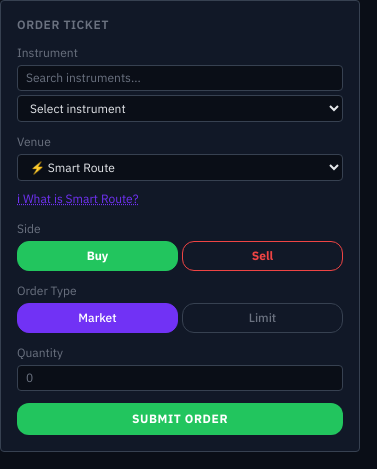
Test: OrderTicket › clears form after successful submission
Step 1. Select "BTC/USD - Bitcoin" in the dropdown labelled "Instrument" → (180, 108), box x1=17 y1=95 x2=343 y2=122
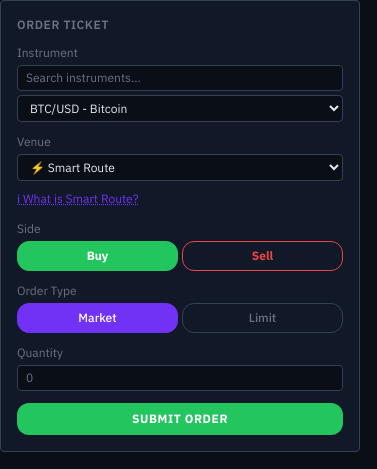
Step 2. Type "10" into the number field labelled "Quantity" → (180, 378), box x1=17 y1=365 x2=343 y2=391
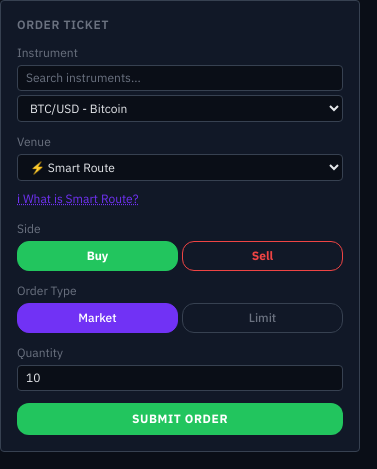
Step 3. Click the button "Submit Order" → (180, 419), box x1=17 y1=403 x2=343 y2=435
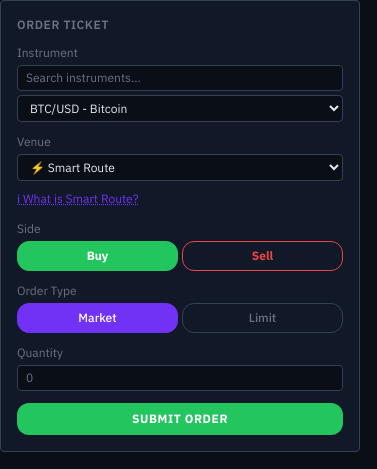
Expected: the number field labelled "Quantity" is not empty, x1=17 y1=365 x2=343 y2=391
